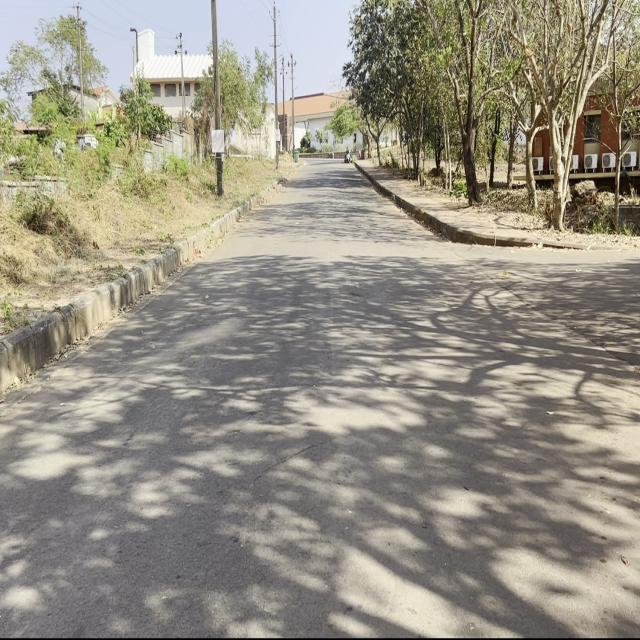Road: (3, 158, 634, 633)
